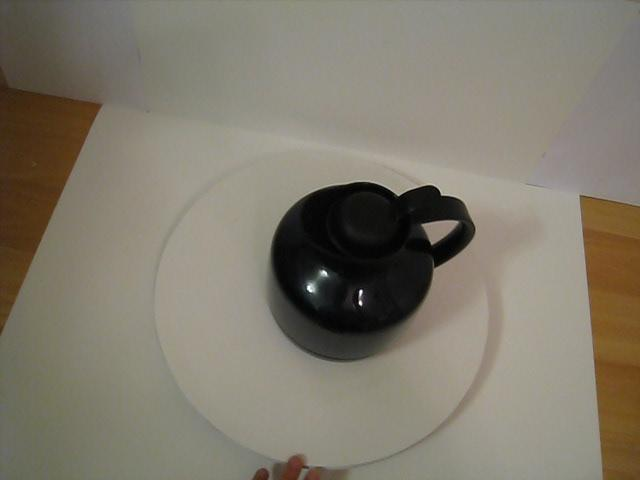pitcher: (260, 165, 480, 407)
